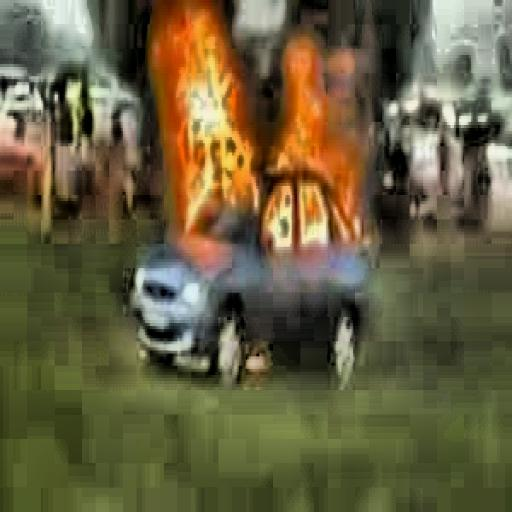fire: (147, 6, 273, 244), (252, 30, 379, 238)
